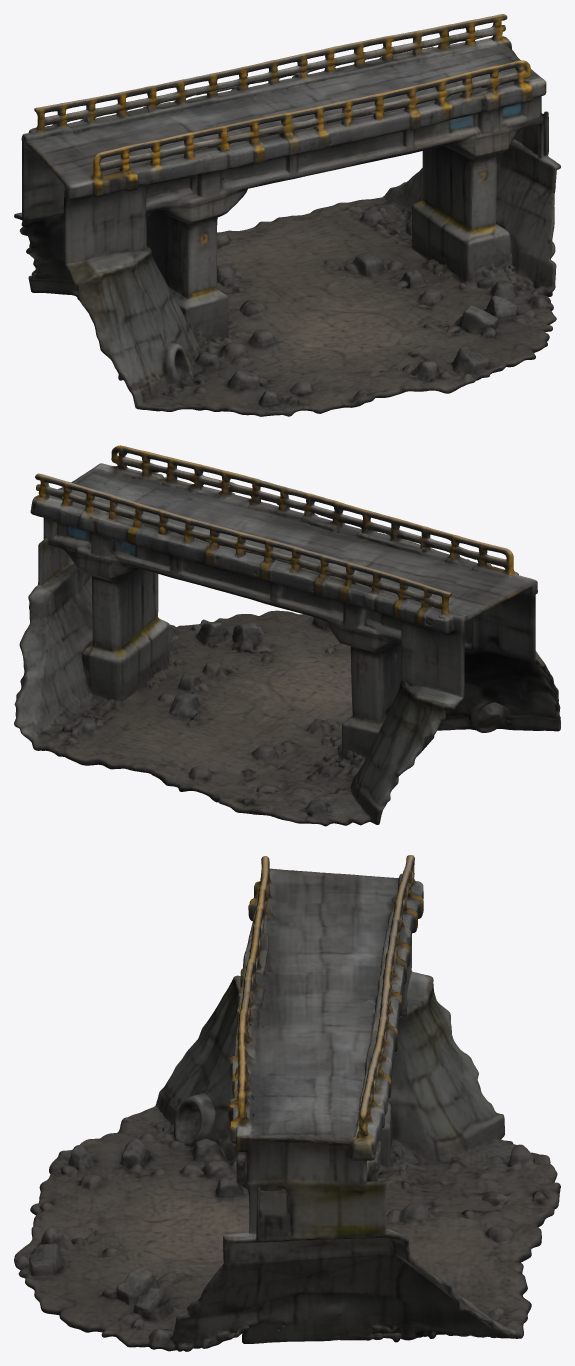
The model's file is bridge_fixed.glb.
The picture shows the model from 3 angles, top to bottom: view 1: azimuth 30°, elevation 25°; view 2: azimuth 150°, elevation 25°; view 3: azimuth 270°, elevation 25°; orthographic projection. The views are drawn at different scales.
Parts seen in each view (by area): view 1: world; view 2: world; view 3: world.
Part boxes in pixels (x1=…): world: x1=14, y1=14, x2=560, y2=416; world: x1=14, y1=445, x2=560, y2=826; world: x1=14, y1=855, x2=560, y2=1351.
Bounding box in the file's own units: 12 × 5.66 × 10.
Materials: 1 (1 with a texture image).
